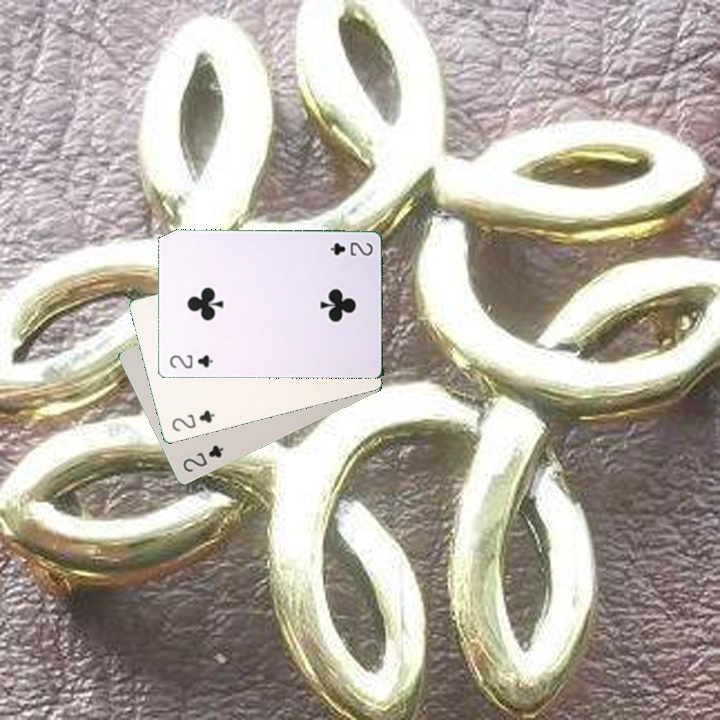2c: (179, 441, 226, 475), (168, 406, 217, 434), (165, 351, 216, 371), (326, 238, 375, 258)
